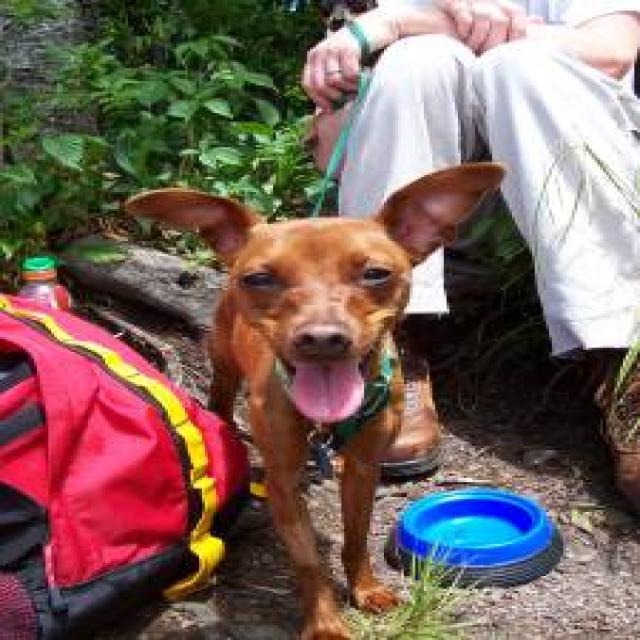dog-miniature_pinscher: (114, 149, 515, 636)
